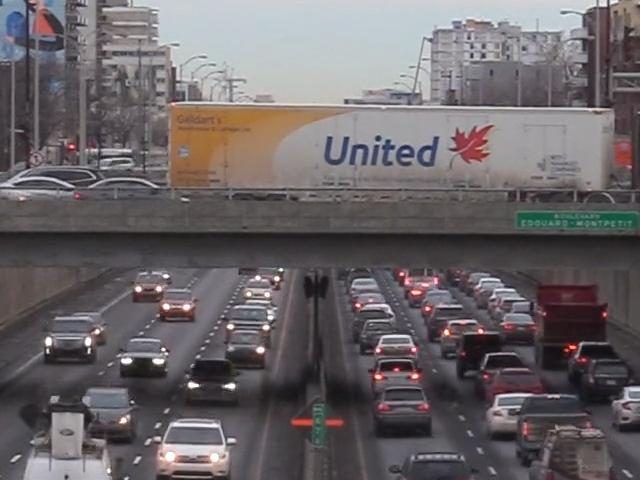car: (508, 391, 591, 462), (153, 418, 234, 480), (526, 429, 613, 480), (370, 383, 435, 437), (482, 364, 550, 415), (455, 328, 519, 382), (83, 385, 140, 441), (484, 390, 539, 444), (393, 447, 480, 480), (41, 315, 97, 364), (567, 340, 626, 386), (185, 358, 238, 404), (435, 318, 488, 362), (368, 355, 424, 396), (224, 327, 273, 369), (120, 337, 172, 376), (224, 307, 273, 345), (420, 294, 466, 333), (495, 316, 540, 354), (371, 333, 419, 368), (355, 315, 400, 352), (609, 383, 640, 431), (489, 295, 534, 328), (158, 291, 200, 322), (481, 283, 524, 313), (166, 271, 205, 304), (132, 270, 172, 302), (354, 300, 394, 330), (467, 275, 505, 305), (243, 273, 279, 298), (348, 277, 382, 301), (404, 278, 433, 304), (234, 264, 259, 285)
truck: (533, 280, 610, 365)
van: (6, 403, 120, 480)
